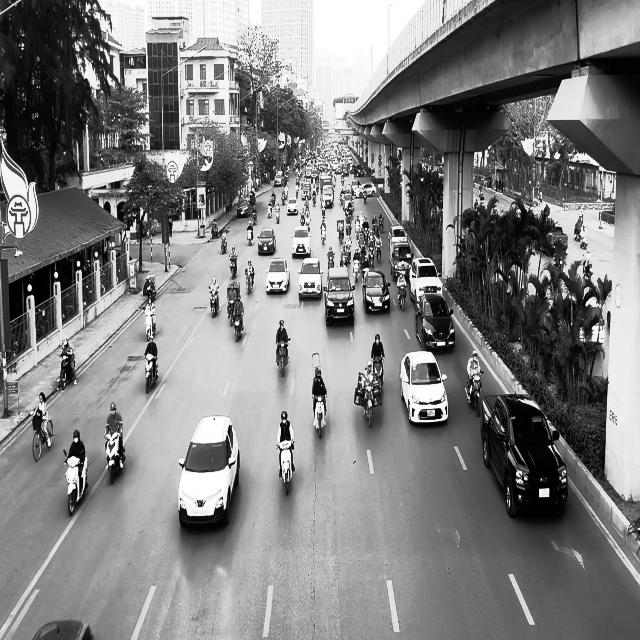car: (479, 392, 568, 518), (178, 415, 240, 527), (400, 350, 448, 425), (415, 292, 455, 352), (324, 267, 355, 326), (362, 270, 390, 314), (298, 257, 324, 301), (266, 257, 290, 294), (291, 225, 311, 258), (257, 228, 276, 255), (286, 197, 298, 215)
motorbike: (63, 448, 88, 516), (104, 426, 125, 484), (32, 412, 54, 461), (277, 440, 294, 495), (464, 370, 484, 416), (312, 393, 326, 438), (58, 354, 76, 389), (275, 338, 290, 377), (362, 384, 375, 428), (144, 354, 158, 393), (232, 310, 244, 342), (144, 310, 156, 341), (208, 286, 219, 318), (244, 270, 253, 295), (229, 256, 237, 279), (247, 223, 253, 246), (221, 234, 227, 253)
